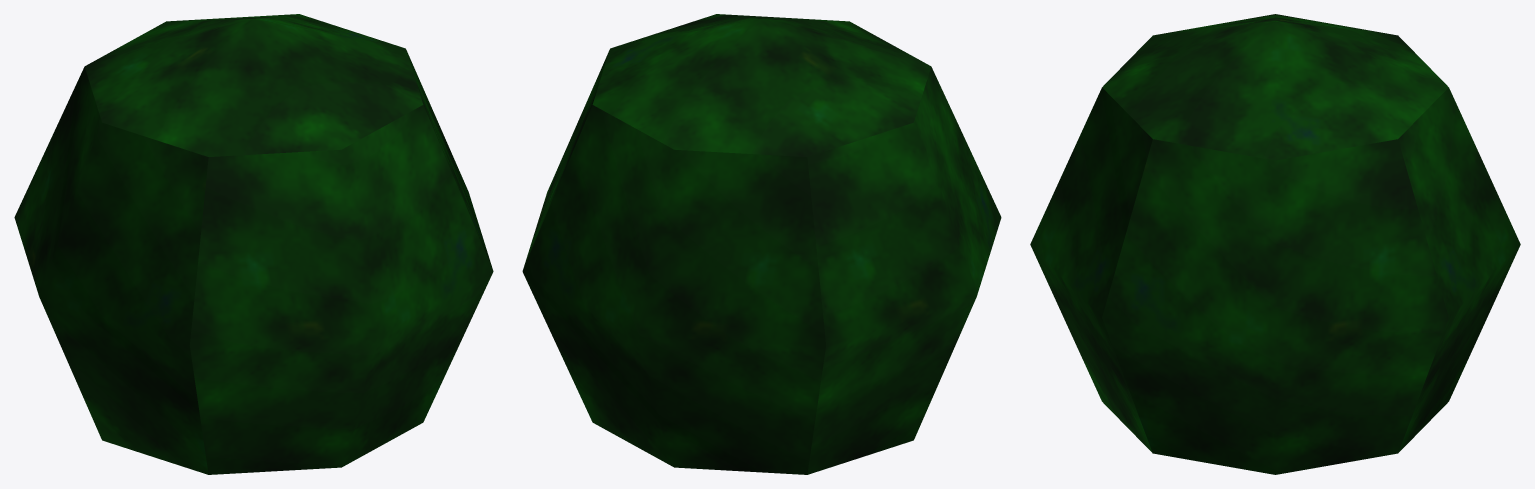
File: mg_eye.glb
3 renders of one model, left to right at view 1: azimuth 30°, elevation 25°; view 2: azimuth 150°, elevation 25°; view 3: azimuth 270°, elevation 25°, orthographic.
Parts seen in each view (by area): view 1: mg_eye-col; view 2: mg_eye-col; view 3: mg_eye-col.
Boxes of the visible parts, <box> form: mg_eye-col: <box>14,14,493,474</box>; mg_eye-col: <box>522,14,1001,474</box>; mg_eye-col: <box>1030,14,1520,474</box>.
Bounding box in the file's own units: 0.3502 × 0.3502 × 0.3502.
1 material, 1 textured.
